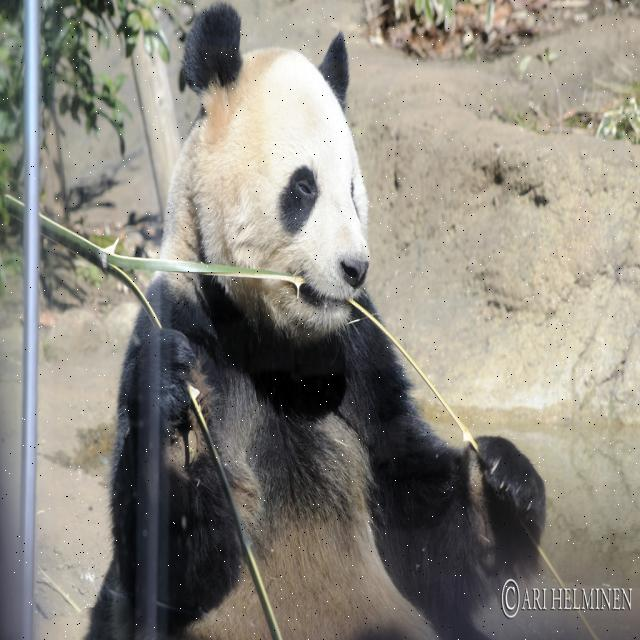panda: (78, 0, 545, 639)
